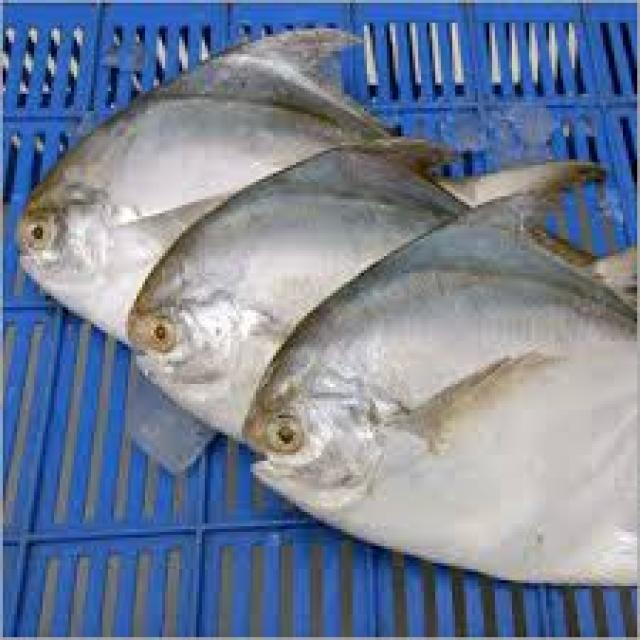pomfred: (239, 178, 637, 586)
